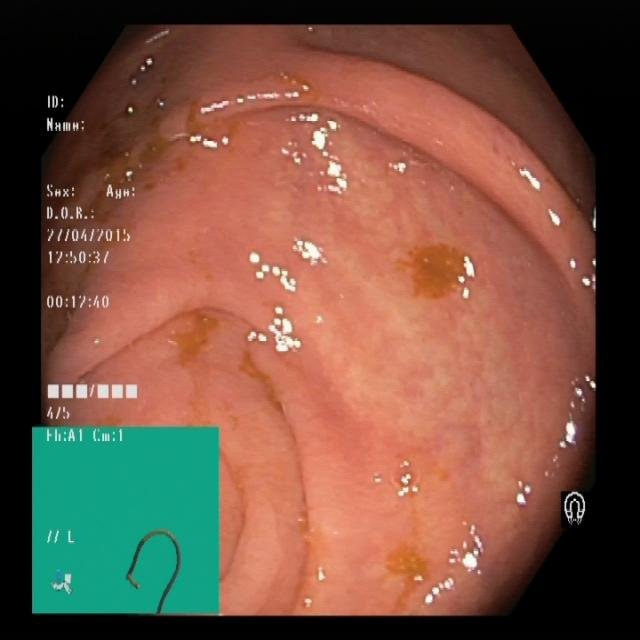normal-cecum: (46, 77, 252, 237), (396, 231, 489, 318), (370, 525, 450, 606), (155, 303, 232, 386)
